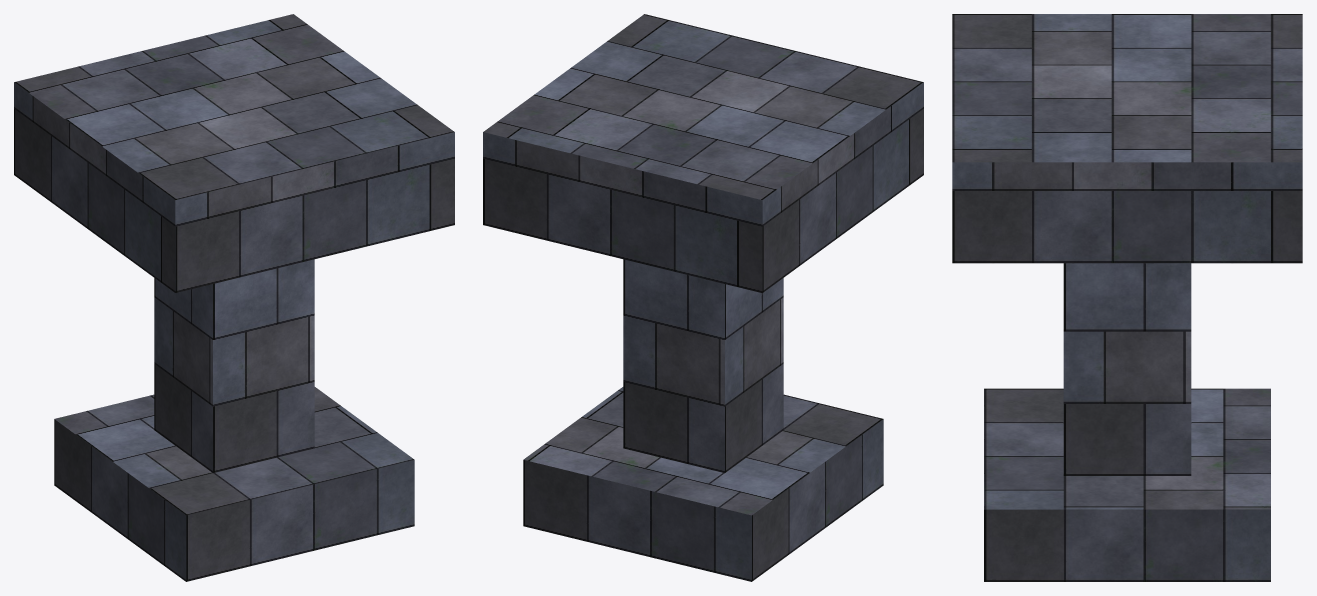
The model's file is SM_dg_brazier.glb.
The picture shows the model from 3 angles, left to right: view 1: azimuth 30°, elevation 25°; view 2: azimuth 150°, elevation 25°; view 3: azimuth 270°, elevation 25°; orthographic projection. The views are drawn at different scales.
Visible parts, largest first — view 1: SM_dg_brazier; view 2: SM_dg_brazier; view 3: SM_dg_brazier.
Part boxes in pixels (x1,y1,x2,y2): SM_dg_brazier: (14,14,454,581); SM_dg_brazier: (483,14,923,581); SM_dg_brazier: (952,14,1302,581).
Size of the model in its own units: 1.1 by 1.5 by 1.1.
Materials: 1 (1 with a texture image).
